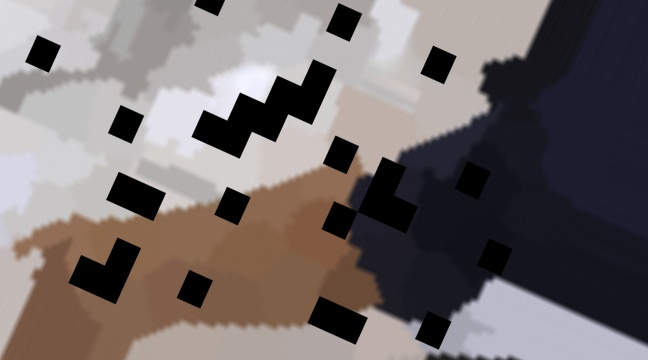washing hand: (0, 0, 354, 359)
